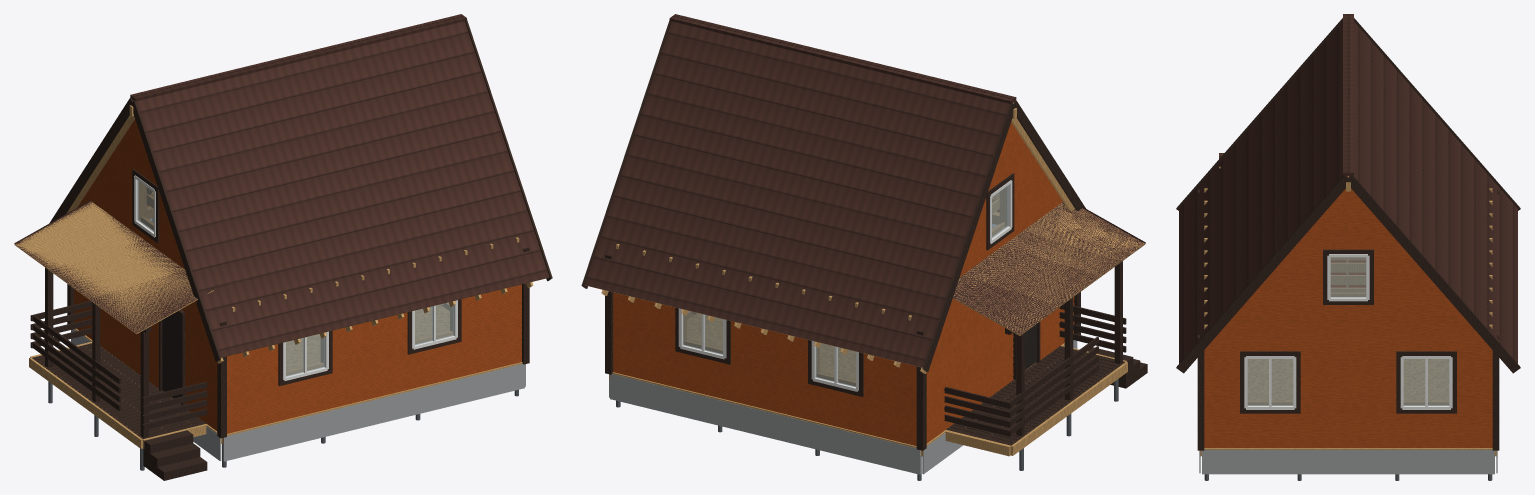
File: house6x7.glb
3 renders of one model, left to right at view 1: azimuth 30°, elevation 25°; view 2: azimuth 150°, elevation 25°; view 3: azimuth 270°, elevation 25°, orthographic. The views are drawn at different scales.
Parts seen in each view (by area): view 1: s6_roofS, s6_proof_under, s8_plinth0, s8_S_clad06, s6_proof, s8_S_clad03, s8_S_clad09, s8_S_clad12, s6_ridgecap, s6_wind00, s3_floor, s8_W_clad06 (+37 smaller); view 2: s6_roofN, s6_proof, s6_proof_under, s8_plinth1, s8_N_clad06, s8_N_clad03, s8_N_clad09, s8_N_clad12, s6_ridgecap, s6_wind10, s8_W_clad06, s3_floor (+35 smaller); view 3: s6_roofN, s6_roofS, s8_plinth3, s8_E_clad06, s8_E_clad03, s8_E_clad21, s8_E_clad18, s8_E_clad24, s3_floor, s8_E_clad09, s8_E_clad12, s8_E_clad15 (+25 smaller).
Part boxes in pixels (left/top/right/bottom): s6_roofS: left=133, top=21, right=549, bottom=357; s6_proof_under: left=15, top=202, right=213, bottom=334; s8_plinth0: left=223, top=364, right=524, bottom=461; s8_S_clad06: left=227, top=327, right=521, bottom=416; s6_proof: left=14, top=200, right=213, bottom=333; s8_S_clad03: left=227, top=345, right=521, bottom=433; s8_S_clad09: left=227, top=309, right=521, bottom=398; s8_S_clad12: left=227, top=290, right=521, bottom=380; s6_ridgecap: left=130, top=14, right=466, bottom=101; s6_wind00: left=130, top=100, right=221, bottom=361; s3_floor: left=163, top=305, right=449, bottom=403; s8_W_clad06: left=73, top=292, right=217, bottom=414; s6_roofN: left=584, top=21, right=1013, bottom=367; s6_proof: left=953, top=202, right=1145, bottom=334; s6_proof_under: left=953, top=203, right=1145, bottom=335; s8_plinth1: left=610, top=374, right=920, bottom=474; s8_N_clad06: left=613, top=336, right=916, bottom=428; s8_N_clad03: left=613, top=355, right=916, bottom=445; s8_N_clad09: left=613, top=317, right=916, bottom=409; s8_N_clad12: left=613, top=298, right=916, bottom=391; s6_ridgecap: left=669, top=14, right=1016, bottom=103; s6_wind10: left=922, top=103, right=1016, bottom=371; s8_W_clad06: left=926, top=300, right=1074, bottom=425; s3_floor: left=687, top=313, right=1035, bottom=381; s6_roofN: left=1349, top=21, right=1517, bottom=363; s6_roofS: left=1179, top=21, right=1347, bottom=363; s8_plinth3: left=1202, top=450, right=1494, bottom=474; s8_E_clad06: left=1204, top=413, right=1492, bottom=431; s8_E_clad03: left=1204, top=431, right=1492, bottom=447; s8_E_clad21: left=1212, top=324, right=1484, bottom=341; s8_E_clad18: left=1204, top=342, right=1492, bottom=359; s8_E_clad24: left=1227, top=306, right=1469, bottom=323; s3_floor: left=1248, top=359, right=1448, bottom=400; s8_E_clad09: left=1204, top=395, right=1492, bottom=413; s8_E_clad12: left=1204, top=377, right=1492, bottom=395; s8_E_clad15: left=1204, top=359, right=1492, bottom=377.
Bounding box in the file's own units: 9.21 × 7.15 × 7.06.
Materials: 12 (7 with a texture image).
